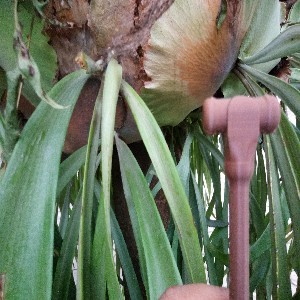palu: (201, 93, 282, 300)
